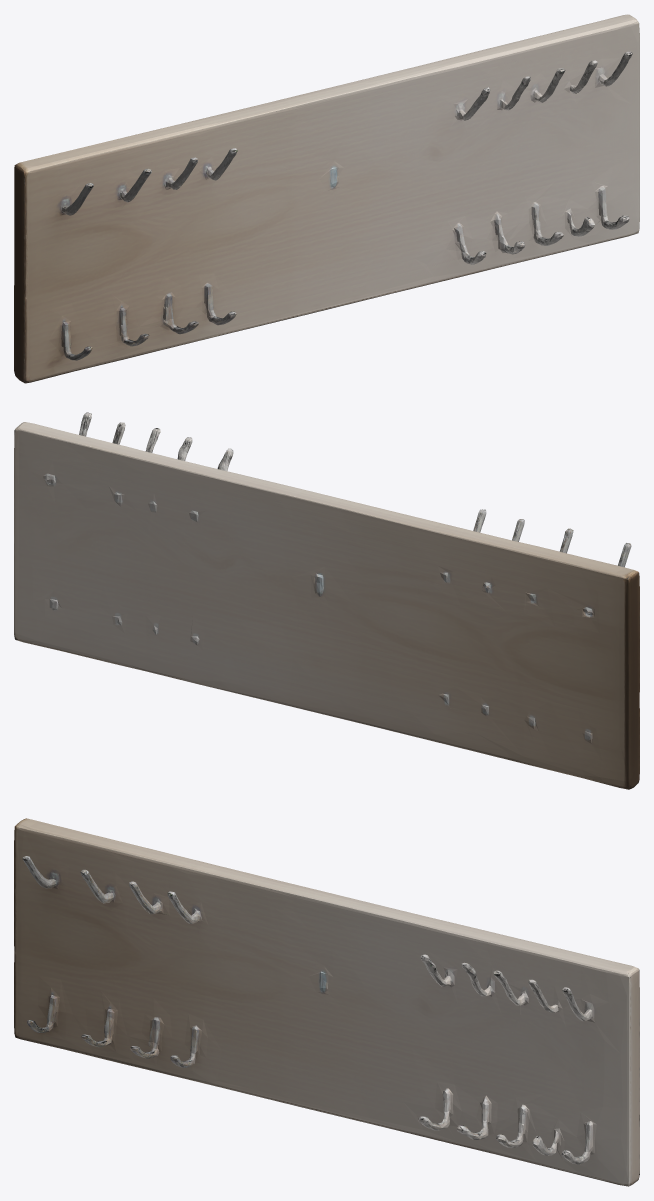
File: pegboard.glb
The picture shows the model from 3 angles, top to bottom: view 1: azimuth 30°, elevation 25°; view 2: azimuth 150°, elevation 25°; view 3: azimuth 330°, elevation 25°; orthographic projection.
Visible parts, largest first — view 1: world; view 2: world; view 3: world.
Part boxes in pixels (x1,y1,x2,y2): world: [14, 14, 639, 383]; world: [14, 412, 639, 789]; world: [14, 818, 639, 1186].
Bounding box in the file's own units: 1 × 0.3335 × 0.1146.
1 material, 1 textured.
